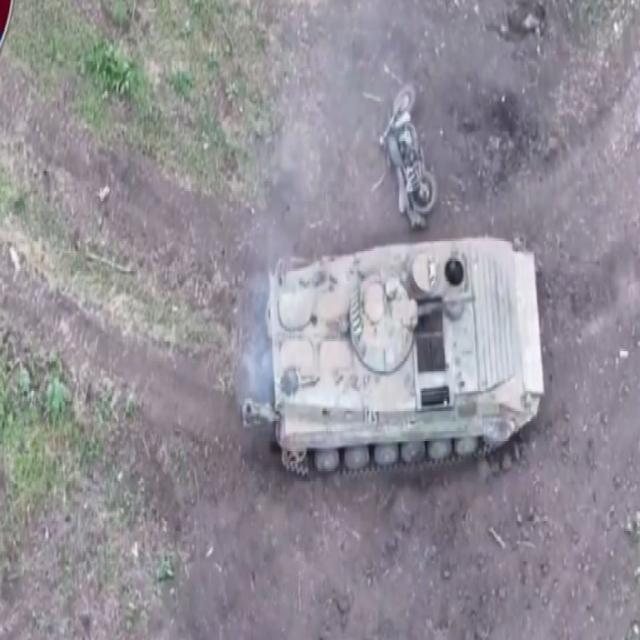APC-IFV: (266, 227, 546, 472)
